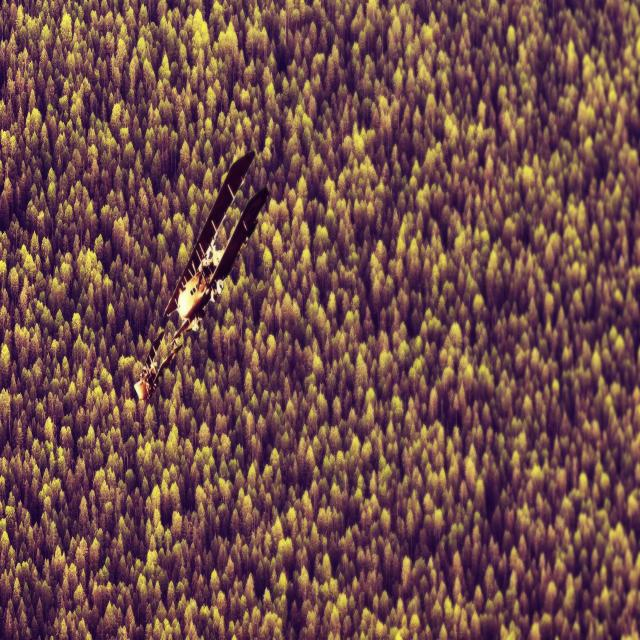airplane: (134, 148, 268, 404)
